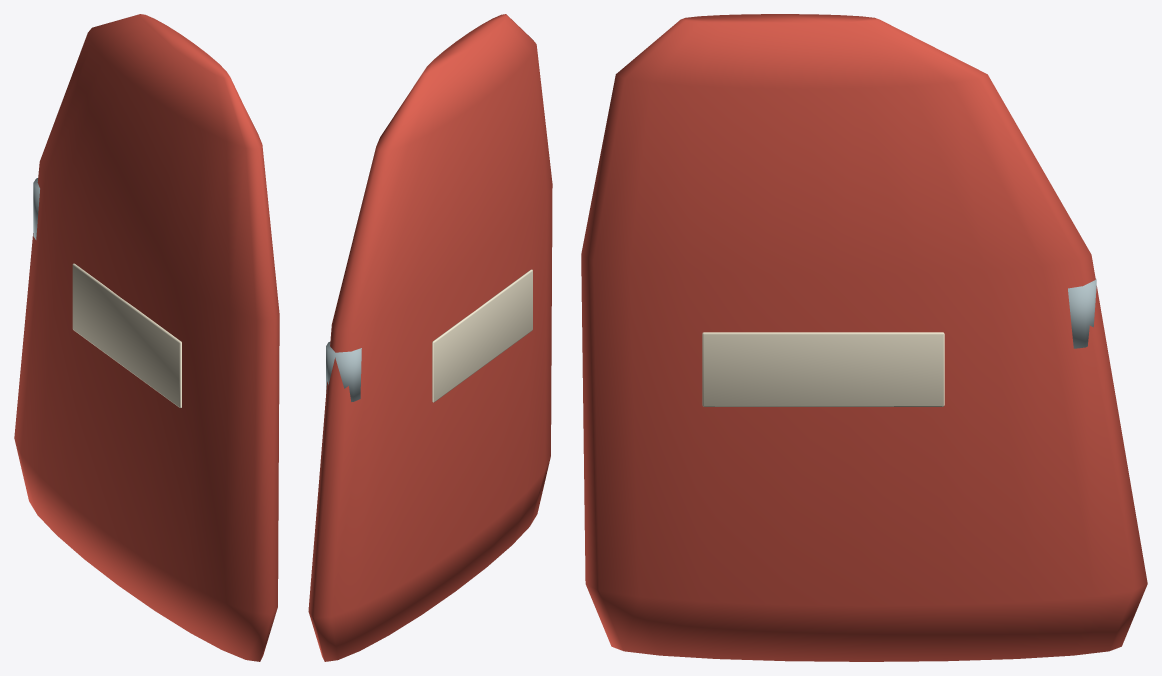
The model's file is rudder.glb.
3 views of the same model, side by side, from view 1: azimuth 30°, elevation 25°; view 2: azimuth 150°, elevation 25°; view 3: azimuth 270°, elevation 25° (orthographic). The views are drawn at different scales.
Parts seen in each view (by area): view 1: Flap.002_Paint, Flap.002_Ivory; view 2: Flap.002_Paint, Flap.002_Ivory, rudder_Aluminium; view 3: Flap.002_Paint, Flap.002_Ivory, rudder_Aluminium.
Boxes of the visible parts, box(x1,y1,x2,y2) form: Flap.002_Paint: box(14, 14, 279, 661); Flap.002_Ivory: box(72, 263, 181, 407); Flap.002_Paint: box(308, 14, 552, 661); Flap.002_Ivory: box(432, 269, 532, 402); rudder_Aluminium: box(326, 342, 361, 401); Flap.002_Paint: box(581, 14, 1147, 661); Flap.002_Ivory: box(702, 332, 944, 406); rudder_Aluminium: box(1068, 278, 1096, 348).
Size of the model in its own units: 0.12 by 0.8 by 0.655.
